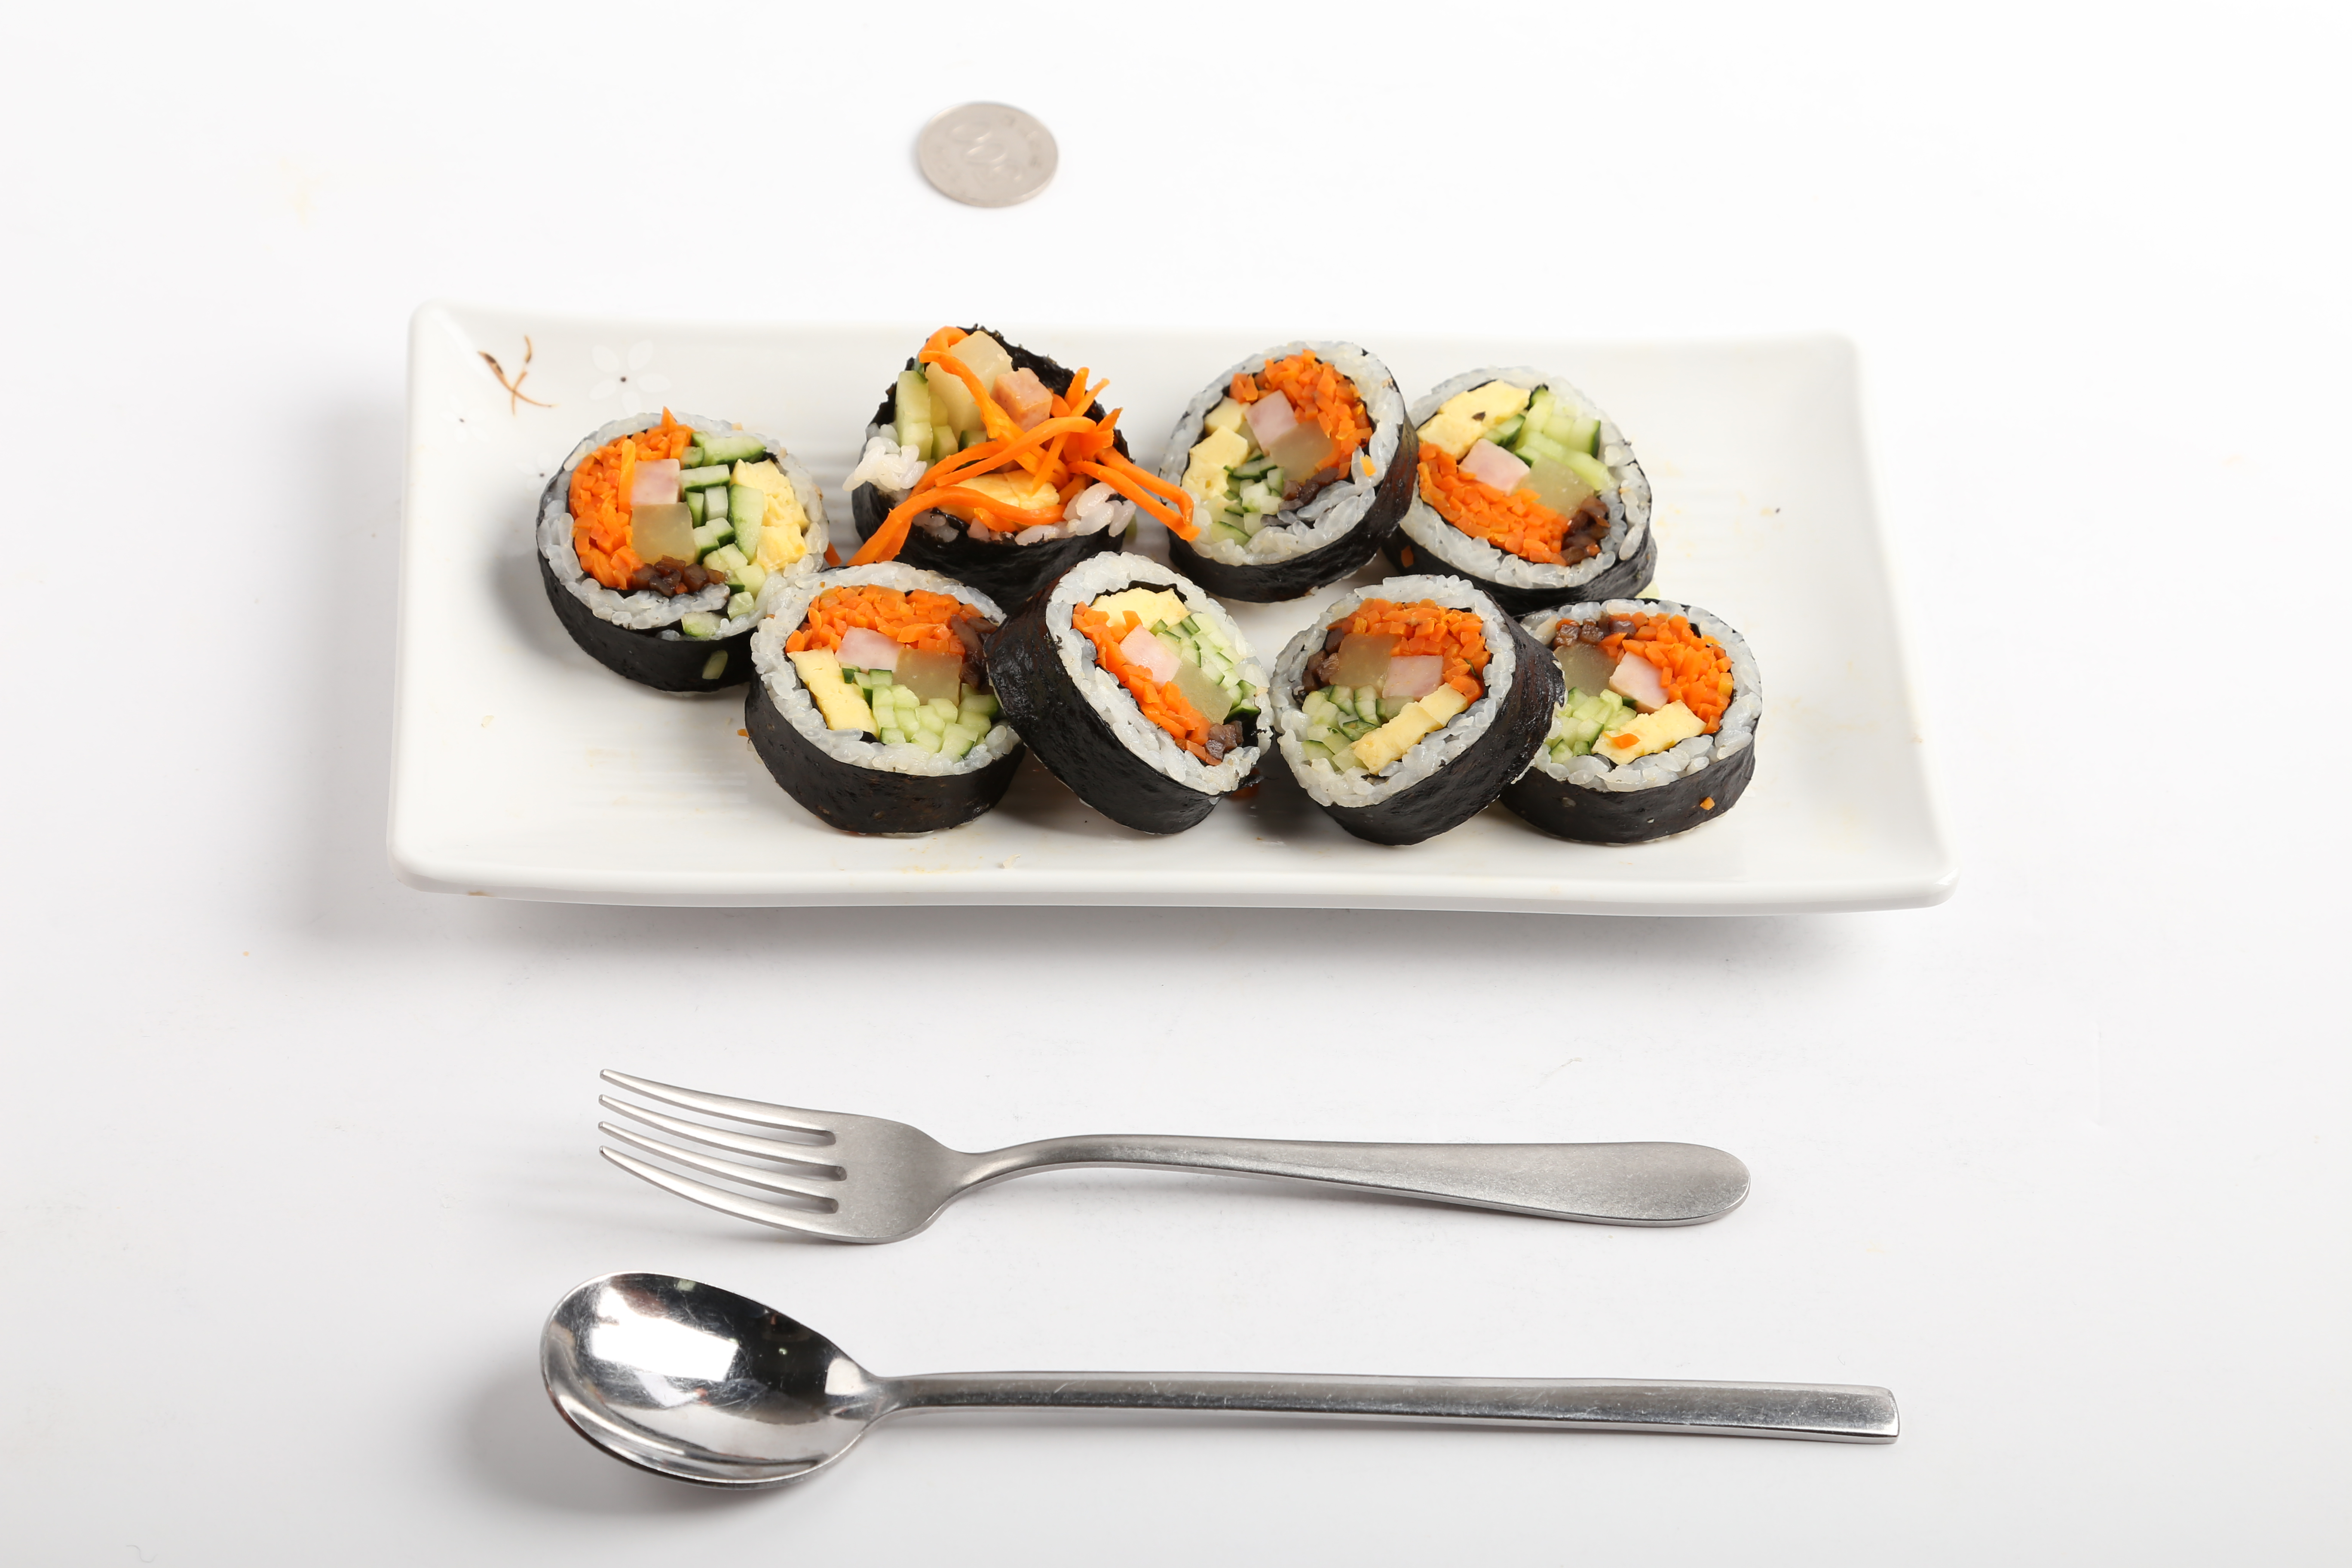dish: (388, 297, 1960, 919)
ref_coin: (901, 86, 1066, 220)
ref_fork: (593, 1053, 1027, 1249)
ref_spoon: (535, 1265, 945, 1494)
김밥: (530, 325, 1764, 856)
